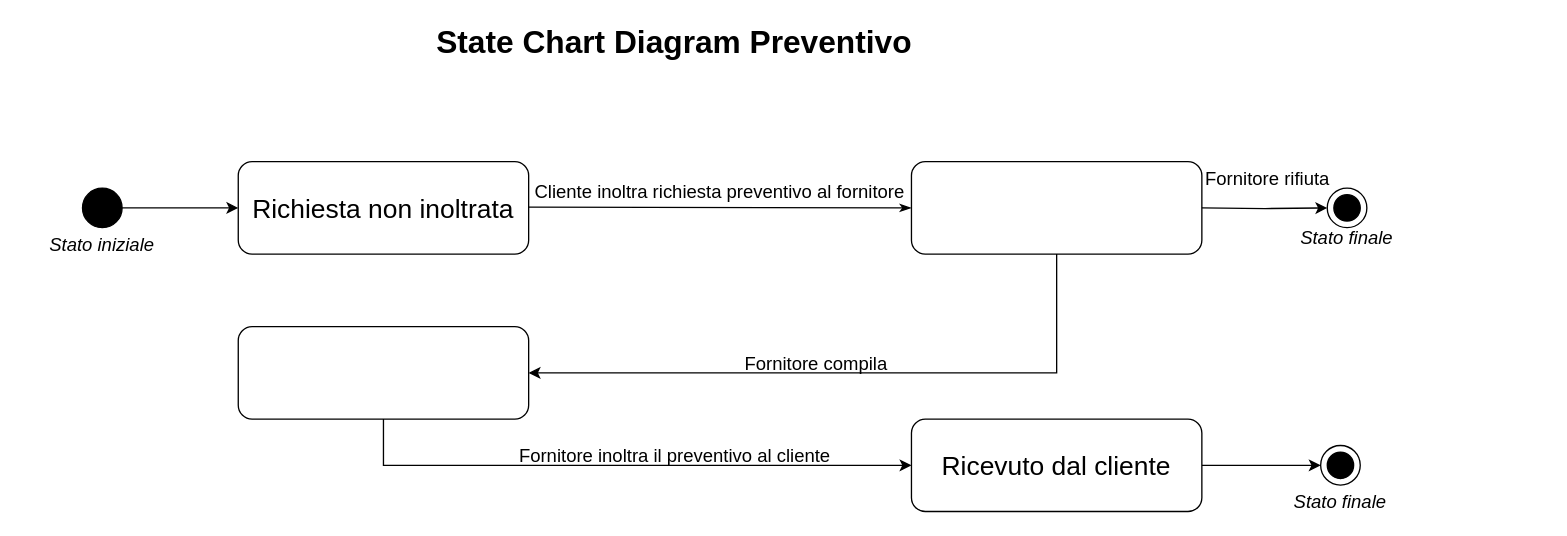
The diagram is 1567 pixels wide and 536 high, and some of its shapes have lost their labels. The centre of each missing label's shape, as x and y in pixels:
"Compilato" belongs at [383,372].
"Ricevuto dal fornitore" belongs at [1056,207].
